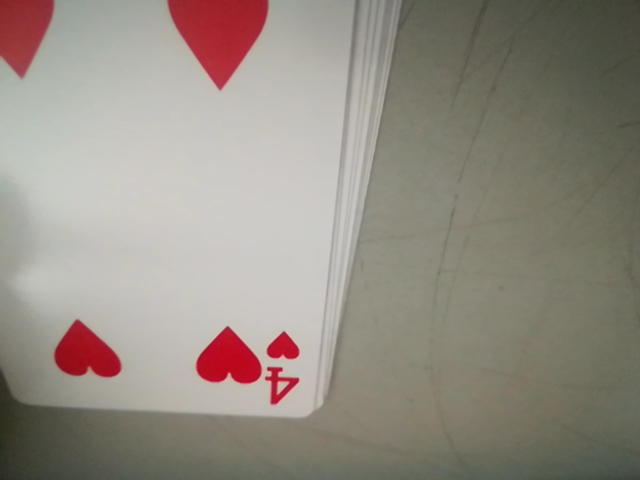hx 4: (263, 326, 304, 407)
